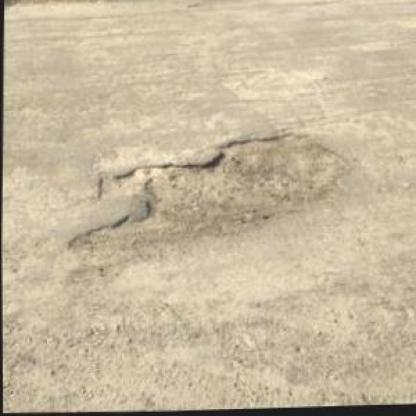pothole: (61, 124, 355, 260)
